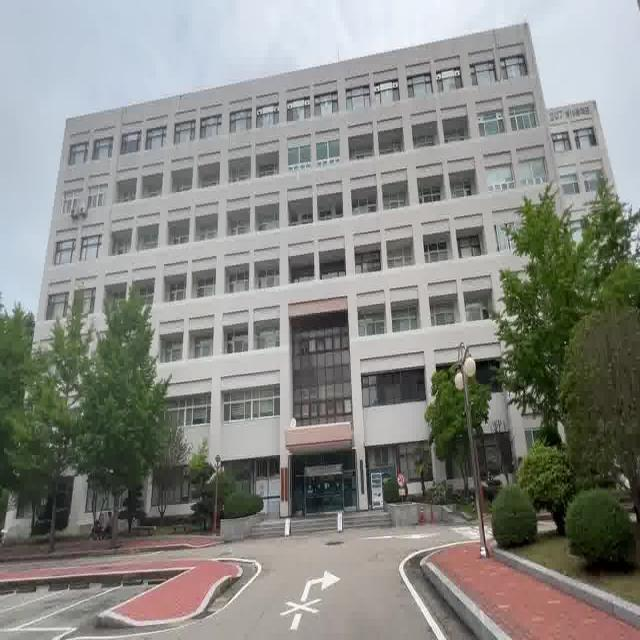building: (58, 46, 492, 334)
